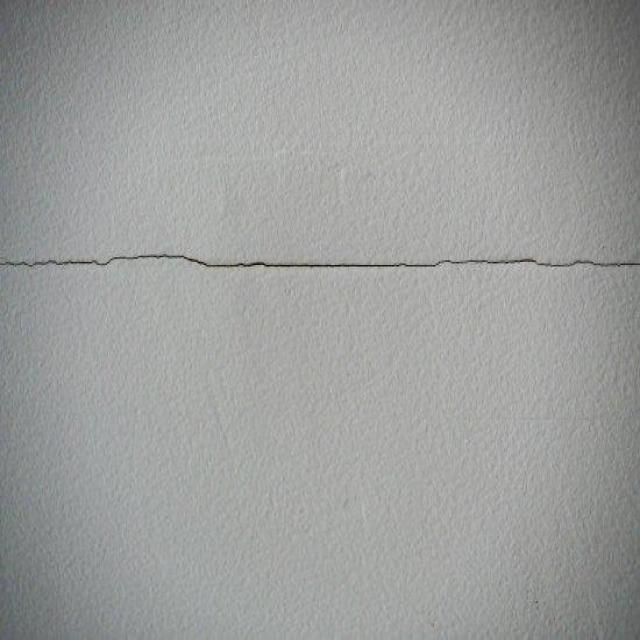crack: (0, 249, 639, 273)
